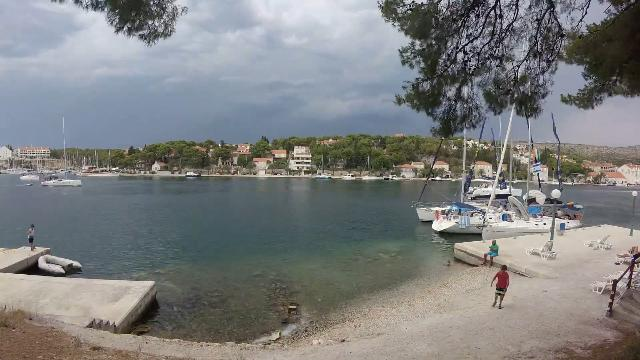Sailboat: (38, 174, 88, 188), (16, 169, 44, 185)
